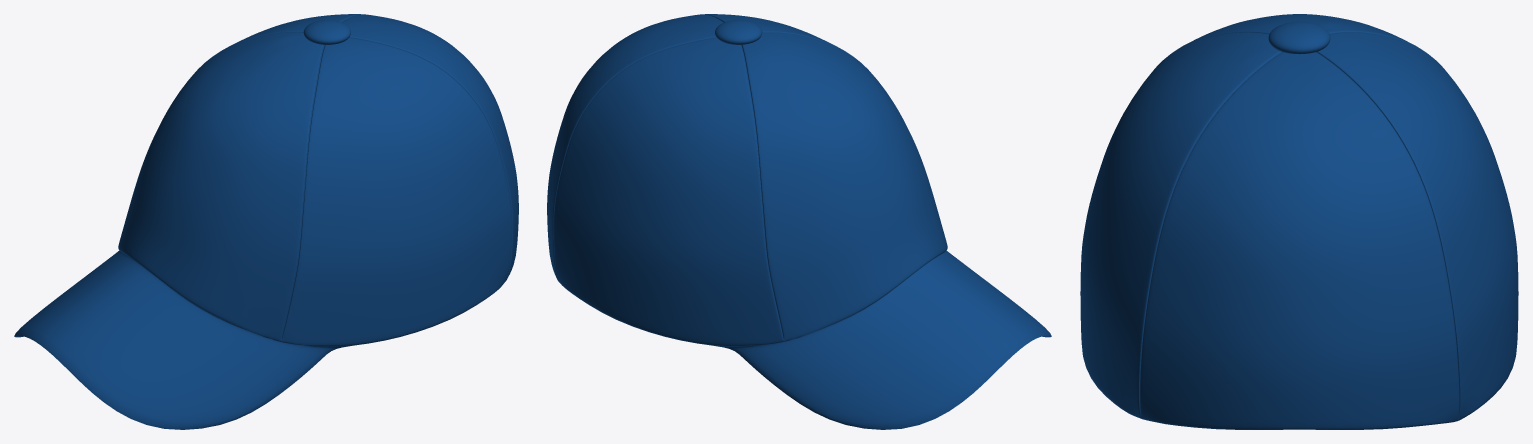
Rendered from Cap.fbx.
3 renders of one model, left to right at view 1: azimuth 30°, elevation 25°; view 2: azimuth 150°, elevation 25°; view 3: azimuth 270°, elevation 25°, orthographic. The views are drawn at different scales.
Parts seen in each view (by area): view 1: Cap001; view 2: Cap001; view 3: Cap001.
Boxes of the visible parts, x1,y1,x2,y2 form: Cap001: (14, 14, 518, 429); Cap001: (547, 14, 1051, 429); Cap001: (1080, 14, 1518, 429).
Bounding box in the file's own units: 32.89 × 20.8 × 20.75.
